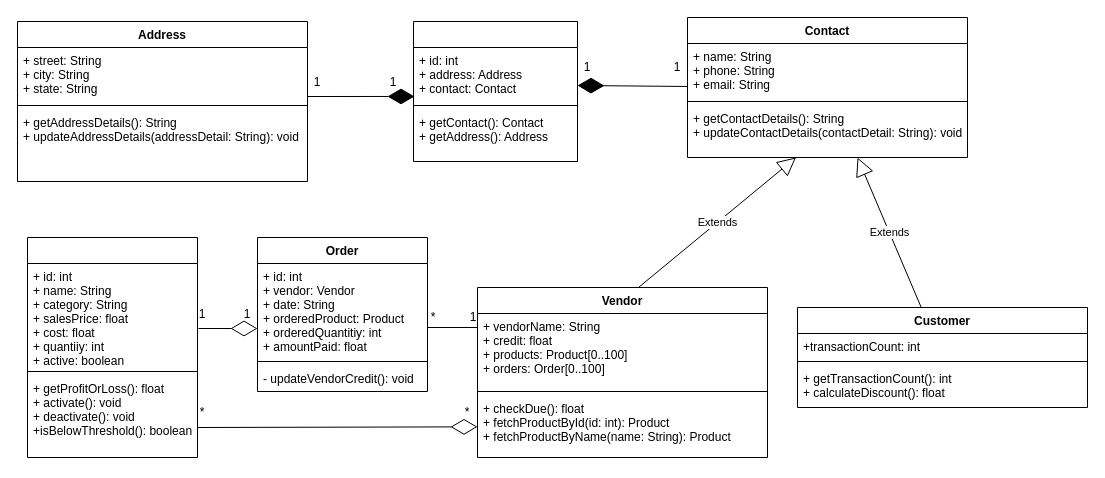
Some shapes in this 1105 by 478 pixel diagram are drawn without their labels. Here are the shapes that lost their labels. From the top down, the box of each, then its label:
(412, 20, 578, 162): BussinessPartner
(26, 236, 198, 458): Product
